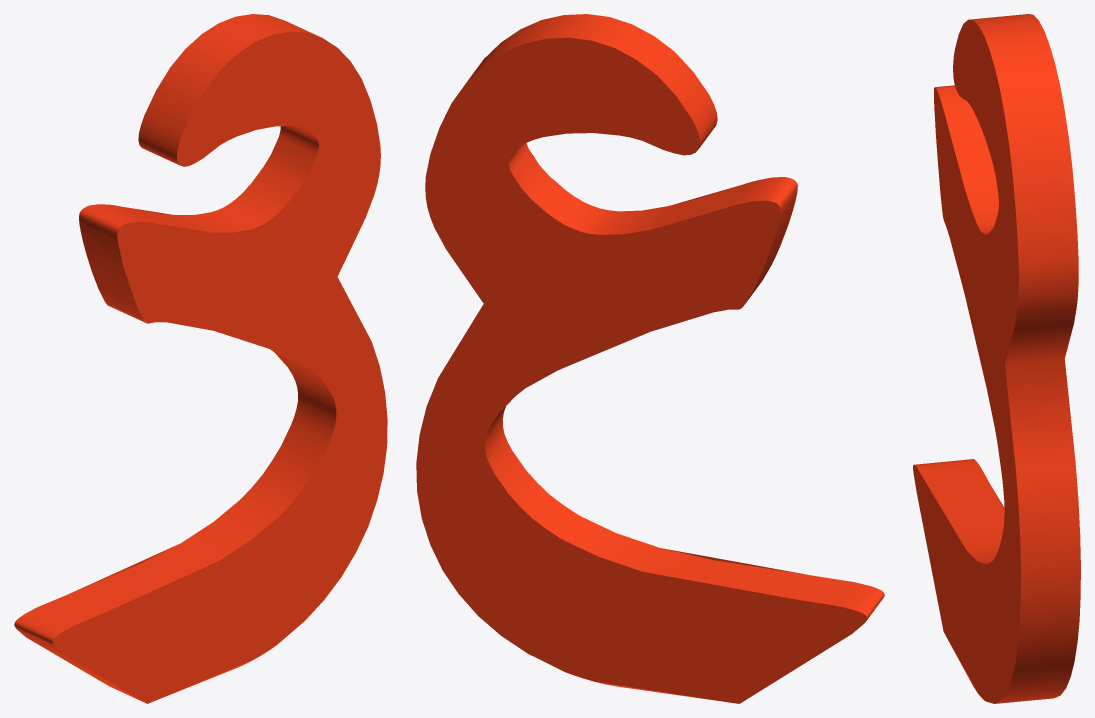
The model's file is ain test 2.fbx.
3 renders of one model, left to right at view 1: azimuth 30°, elevation 25°; view 2: azimuth 150°, elevation 25°; view 3: azimuth 270°, elevation 25°, orthographic. The views are drawn at different scales.
Parts seen in each view (by area): view 1: ain; view 2: ain; view 3: ain.
Part boxes in pixels (box(x1,y1,x2,y2)): ain: box(14, 14, 387, 703); ain: box(416, 14, 884, 703); ain: box(913, 14, 1080, 703).
Size of the model in its own units: 82.17 by 123 by 27.88.
